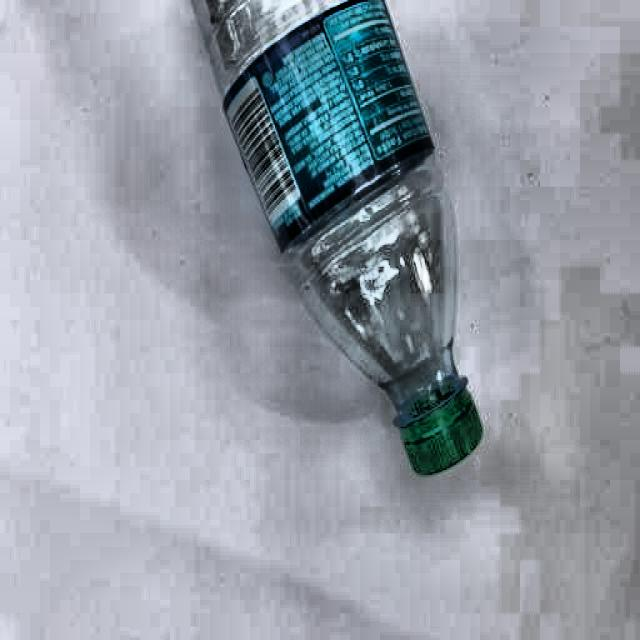plastic: (185, 2, 485, 486)
